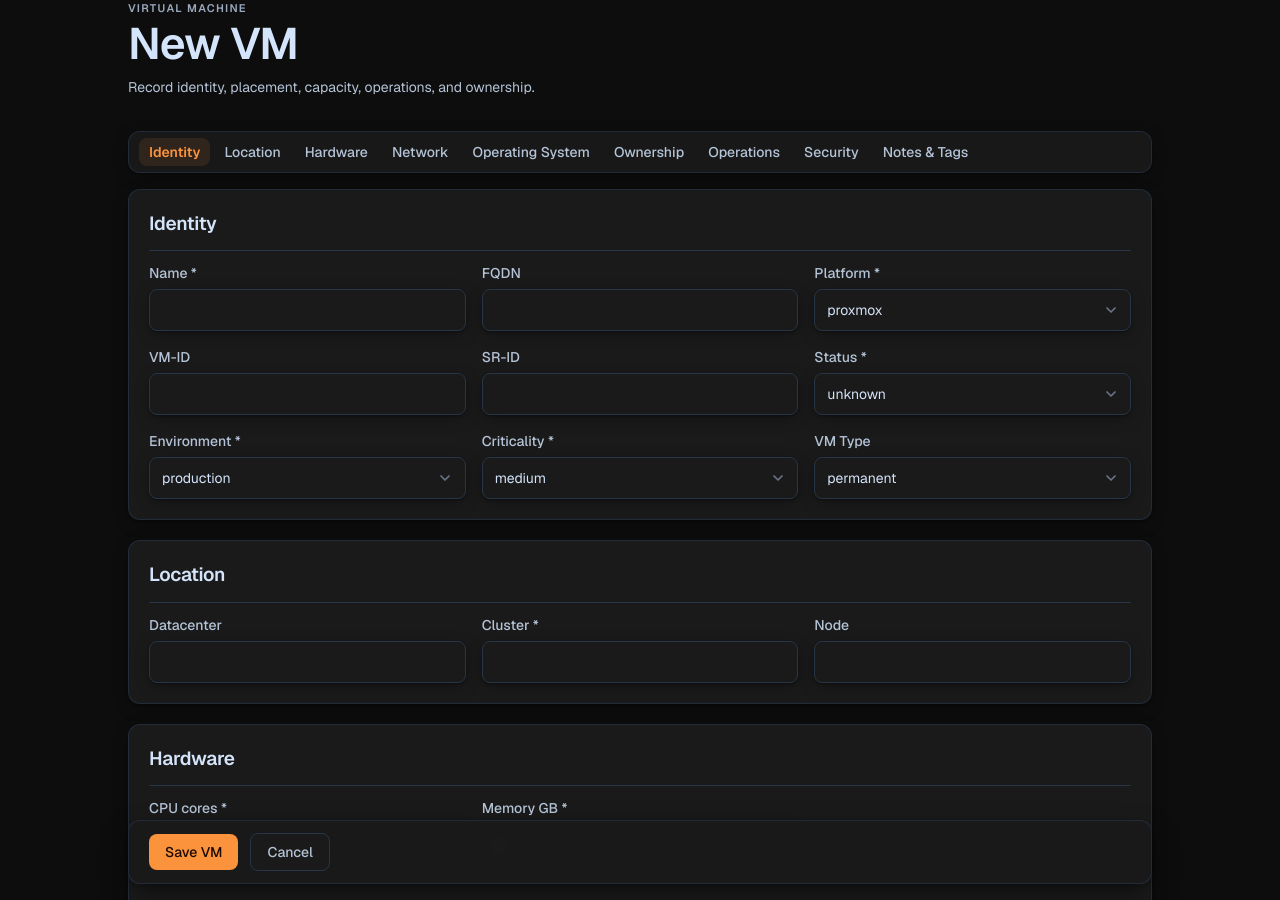
Test: VmFormPage vm_type / decommission_date gating › disables decommission date for a permanent VM and enables it for temporary
Select "temporary" in the dropdown labelled "VM Type" at (973, 478), box [814,457,1131,499]
(page scrolled)
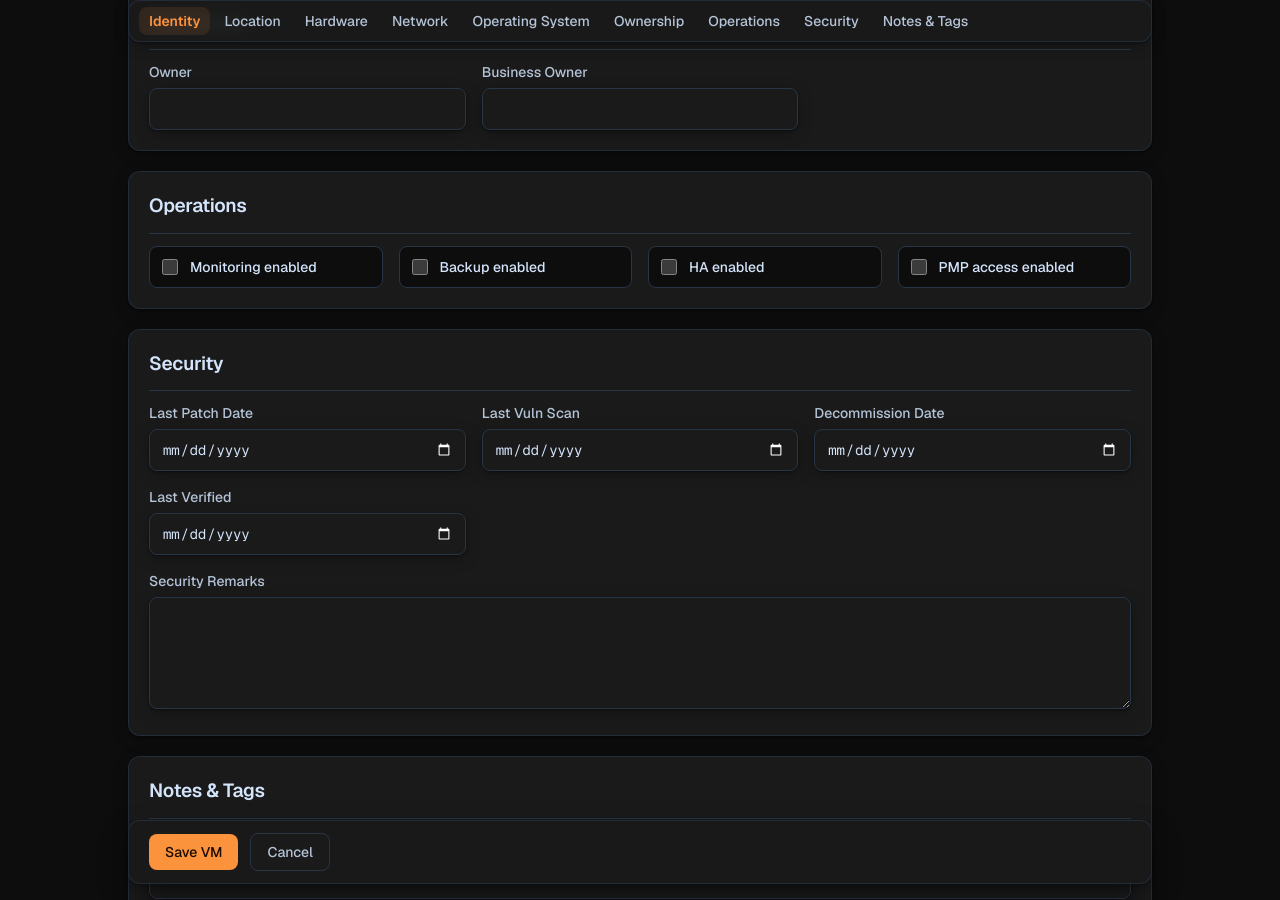
Result: the date field labelled "Decommission Date" is enabled at [814,429,1131,471]
